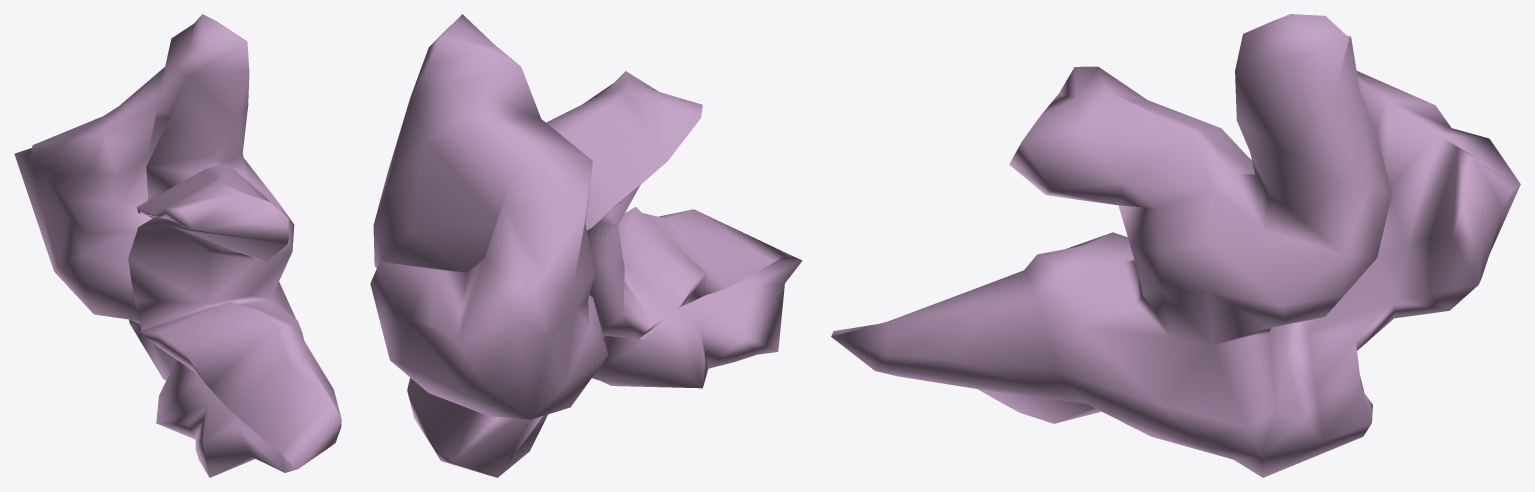
3 views of the same model, side by side, from view 1: azimuth 30°, elevation 25°; view 2: azimuth 150°, elevation 25°; view 3: azimuth 270°, elevation 25° (orthographic). The views are drawn at different scales.
Parts seen in each view (by area): view 1: 左侧顶下沟; view 2: 左侧顶下沟; view 3: 左侧顶下沟.
Boxes of the visible parts, <box> form: 左侧顶下沟: <box>14,14,341,477</box>; 左侧顶下沟: <box>370,14,802,477</box>; 左侧顶下沟: <box>831,14,1520,477</box>.
Size of the model in its own units: 0.0222 by 0.0391 by 0.0528.
